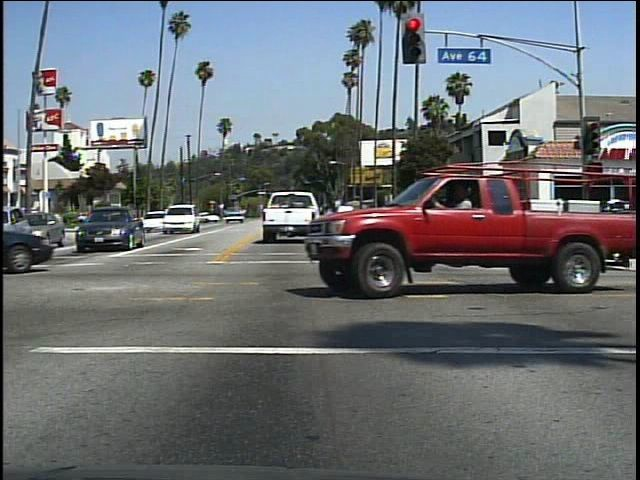person: (445, 179, 485, 287), (476, 200, 501, 236)
